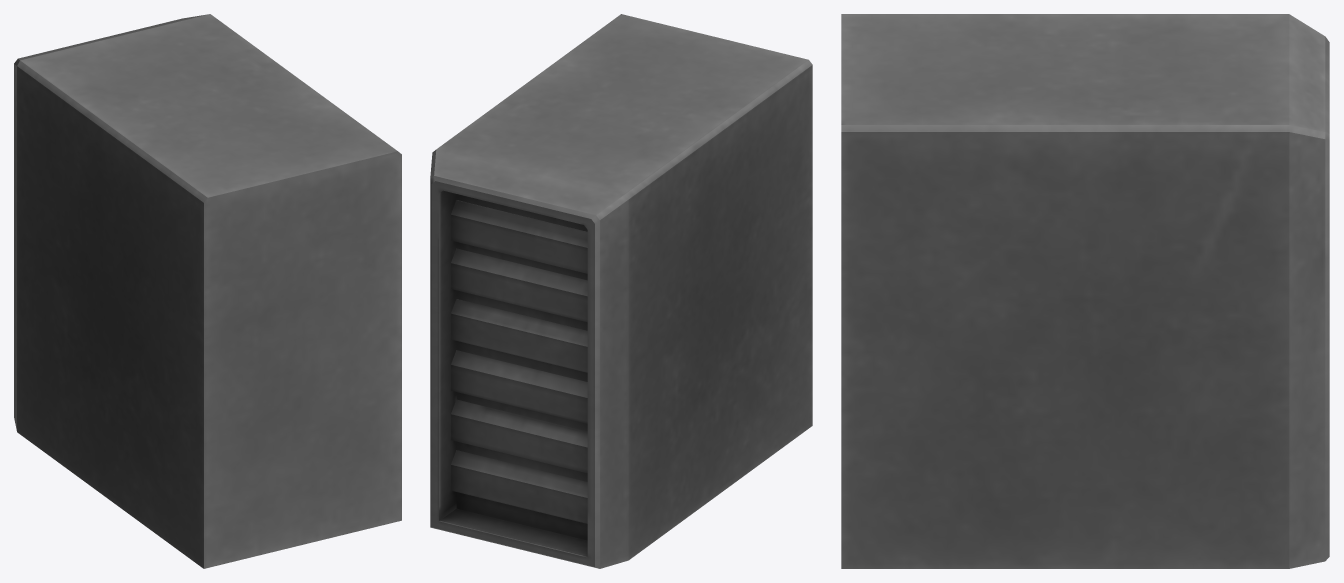
The picture shows the model from 3 angles, left to right: view 1: azimuth 30°, elevation 25°; view 2: azimuth 150°, elevation 25°; view 3: azimuth 270°, elevation 25°; orthographic projection. The views are drawn at different scales.
Visible parts, largest first — view 1: PC 2; view 2: PC 2; view 3: PC 2.
Part boxes in pixels (x1,y1,x2,y2): PC 2: (14, 14, 401, 568); PC 2: (430, 14, 812, 568); PC 2: (841, 14, 1329, 568).
Size of the model in its own units: 0.28 by 0.5007 by 0.5.
